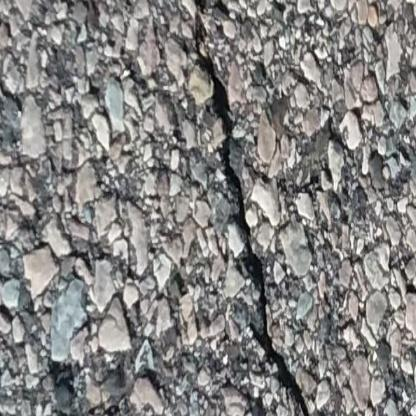Cracks: (188, 0, 314, 416)
